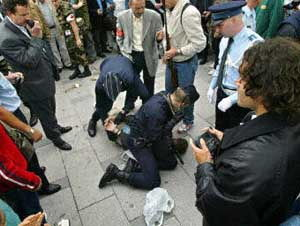10+: (6, 5, 288, 215)
down: (103, 115, 191, 168)
